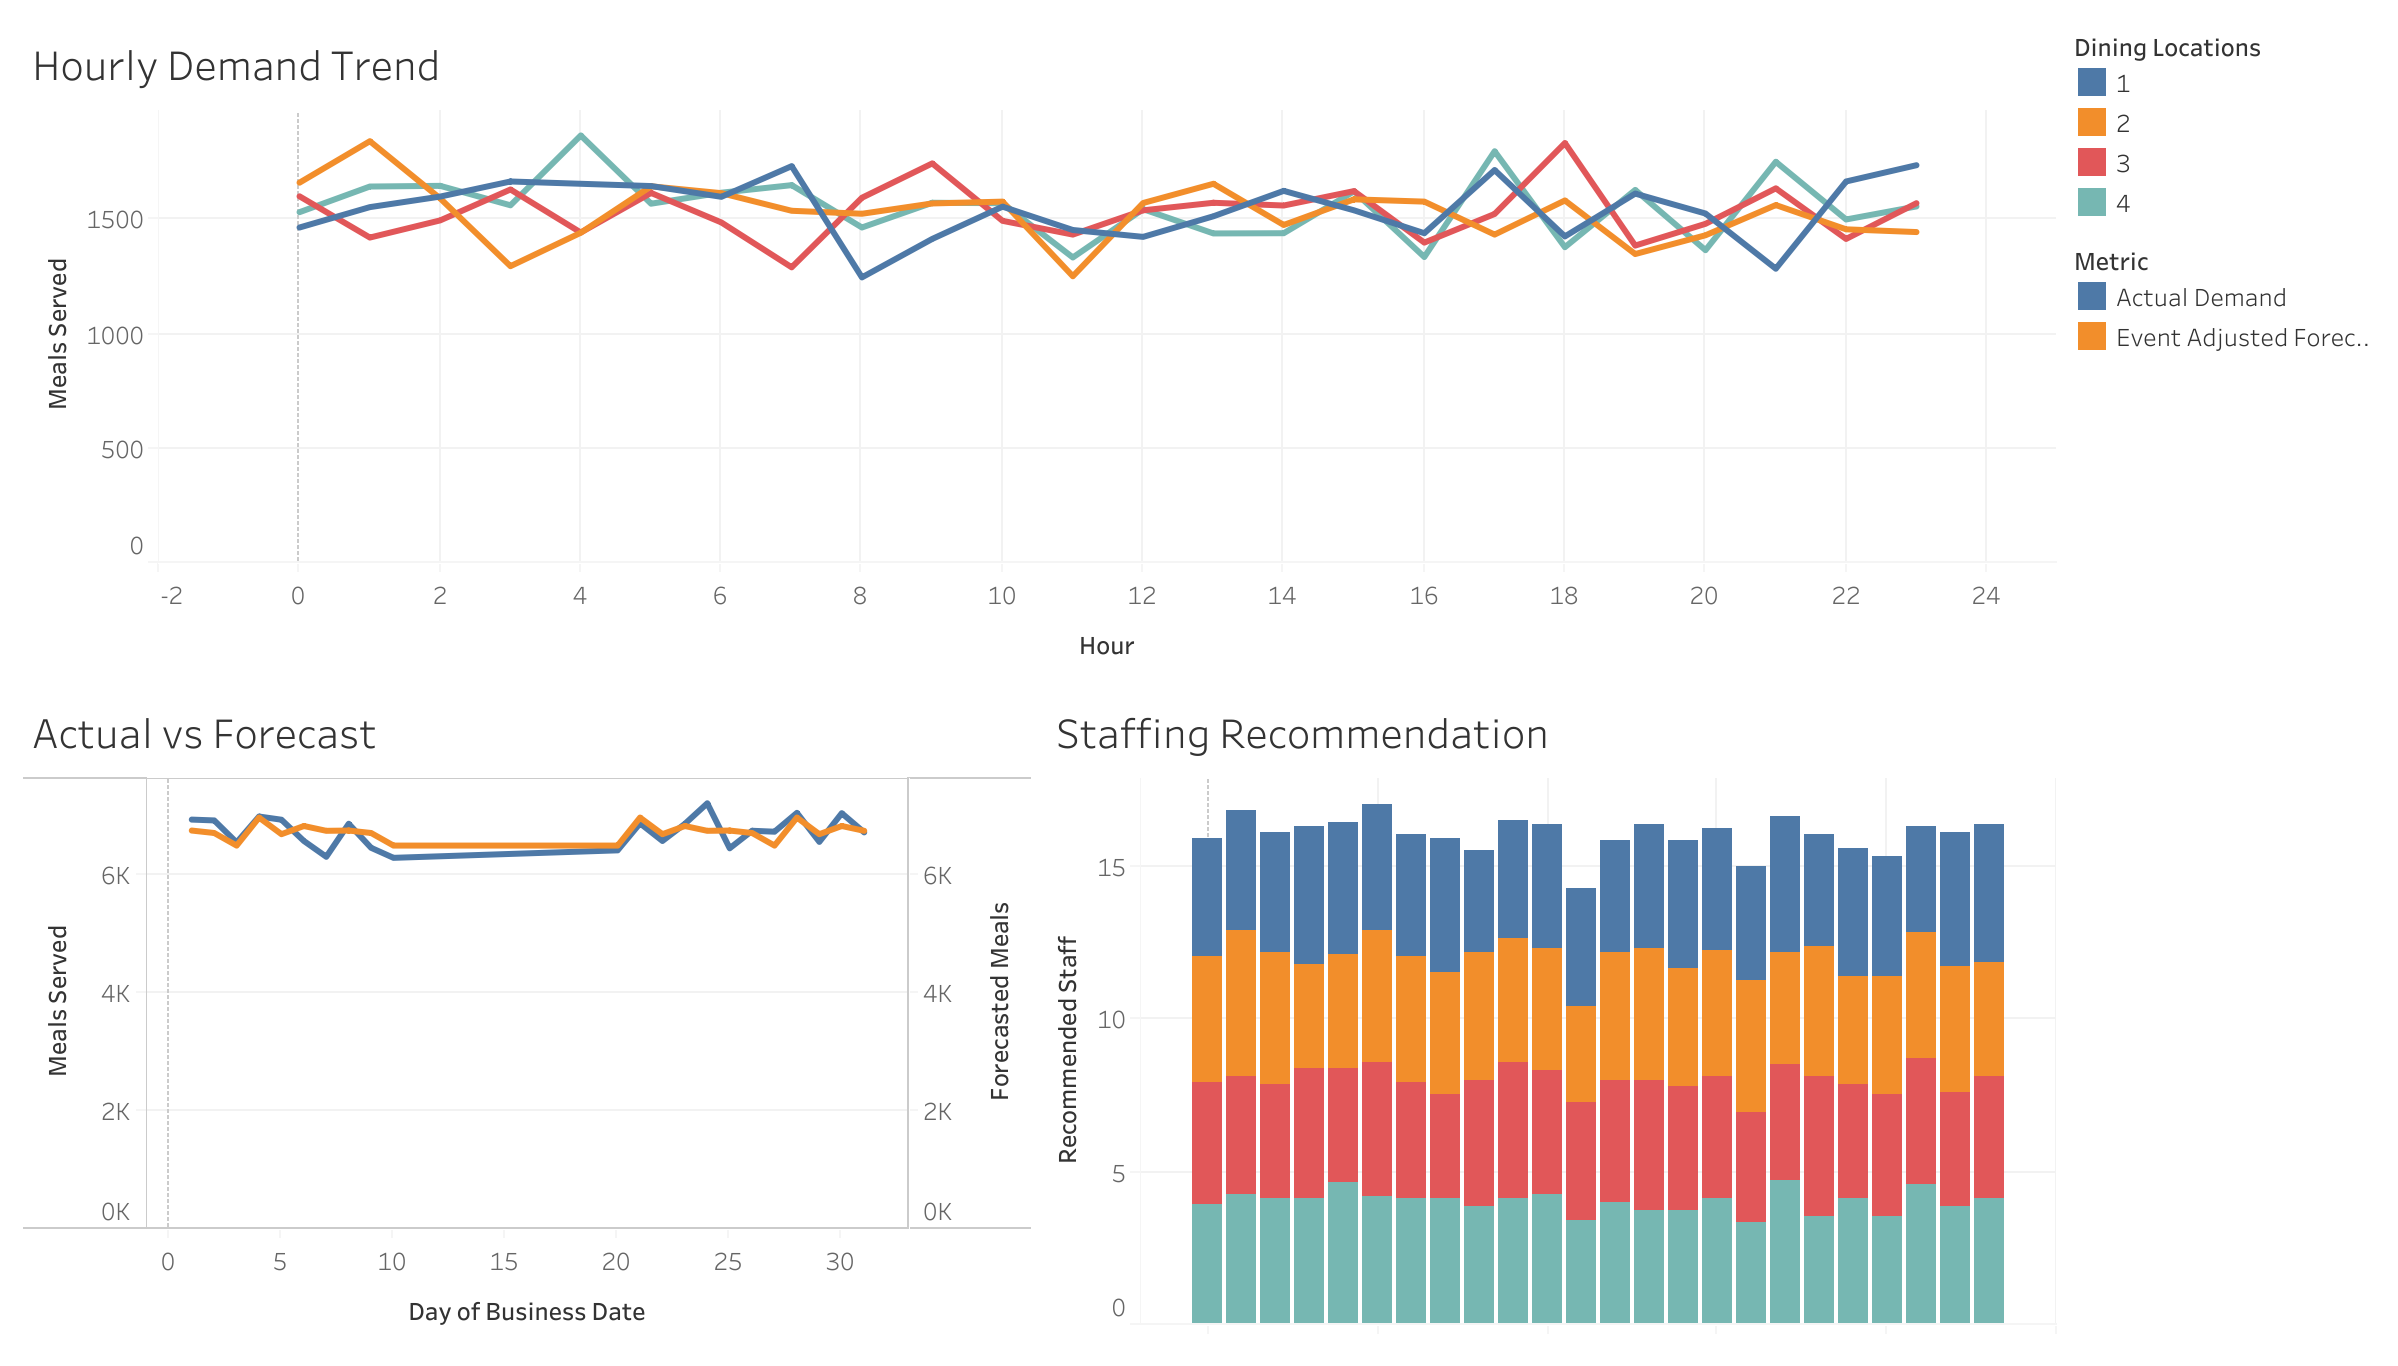

This screenshot's page, from the dashboard's own definition file:
{"tool":"tableau","page":{"name":"Campus Demand Forecasting","canvas":[1000,1000],"units":"permille","ordinal":0},"visuals":[{"type":"worksheet","title":"Hourly Demand Trend","mark":"Line","rows":["actual_demand"],"cols":["hour_of_day"],"box":[6.7,10.1,853.3,489.9]},{"type":"legend","title":"Hourly Demand Trend","param":"[federated.1etdm2e05bfnv210h663t1jtfm84].[none:dining_unit_id:ok]","box":[860,10.1,133.3,133.8]},{"type":"legend","title":"Actual vs Forecast","param":"[federated.1etdm2e05bfnv210h663t1jtfm84].[:Measure Names]","box":[860,143.9,133.3,83.3]},{"type":"worksheet","title":"Actual vs Forecast","mark":"Line","rows":["actual_demand","event_adjusted_forecast"],"cols":["business_date"],"box":[6.7,500,426.7,489.9]},{"type":"worksheet","title":"Staffing Recommendation","mark":"Bar","rows":["recommended_staff_count"],"cols":["hour_of_day"],"box":[433.3,500,426.7,489.9]}]}

Visuals, with their boxes on the dashboard's canvas, which has no fixed pixel size, in thousandths of its width and height (x1, y1, x2, y2). These are canvas units, not pixel positions in the 2398x1366 screenshot, which may show the page scaled, cropped or inside an application window:
"Hourly Demand Trend" worksheet (Line marks): [7, 10, 860, 500]
"Hourly Demand Trend" legend: [860, 10, 993, 144]
"Actual vs Forecast" legend: [860, 144, 993, 227]
"Actual vs Forecast" worksheet (Line marks): [7, 500, 433, 990]
"Staffing Recommendation" worksheet (Bar marks): [433, 500, 860, 990]
